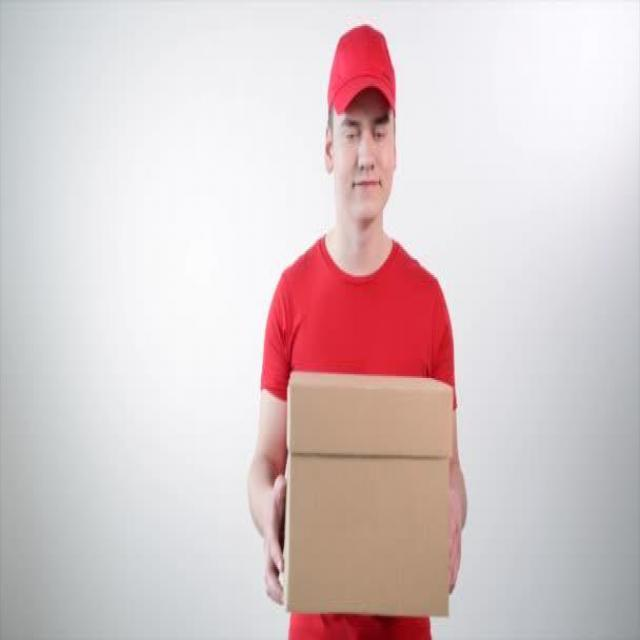box: (278, 442, 454, 624), (286, 361, 451, 465)
